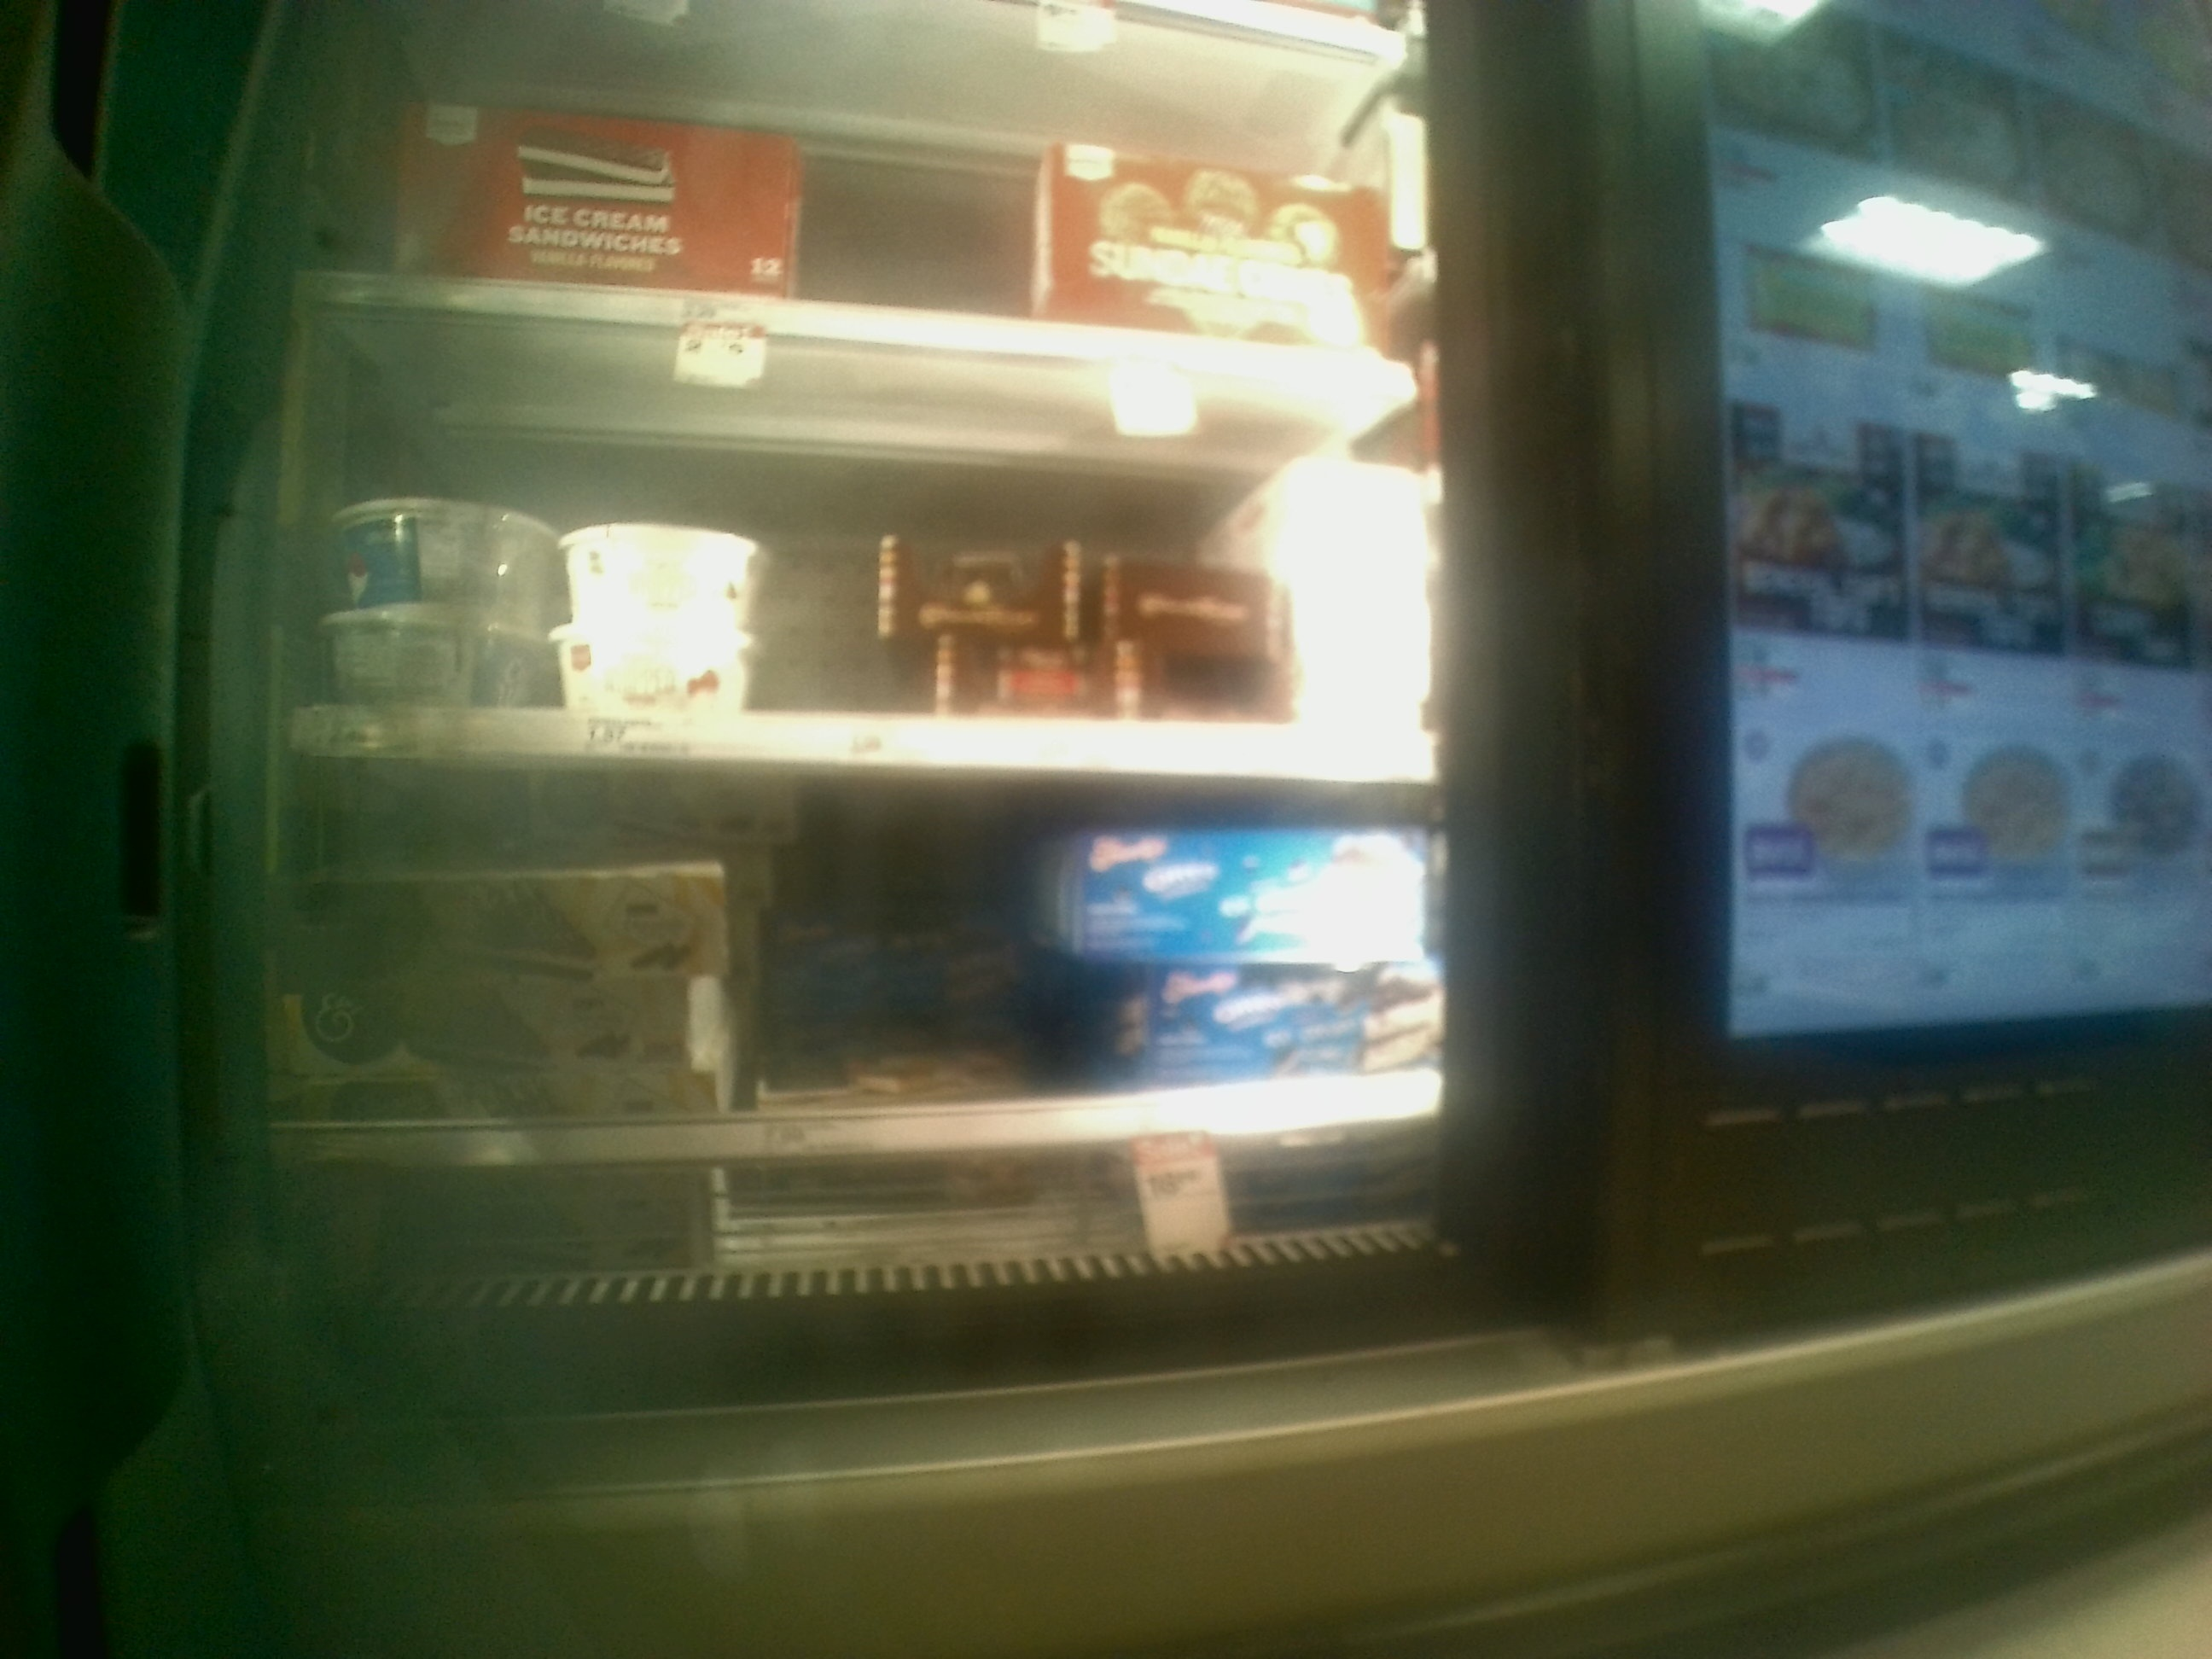shelf: (280, 763, 1474, 1244), (280, 307, 1444, 779)
